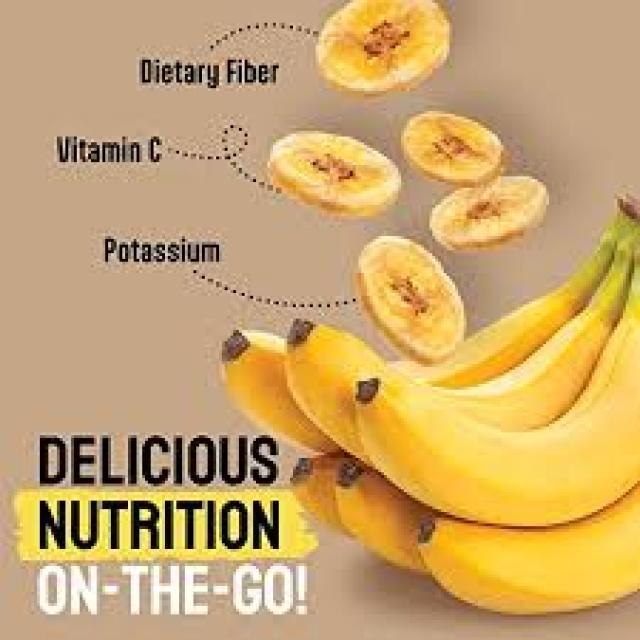Banana: (355, 309, 640, 526), (419, 485, 640, 613), (291, 458, 429, 572), (285, 320, 385, 462), (222, 330, 335, 452)
